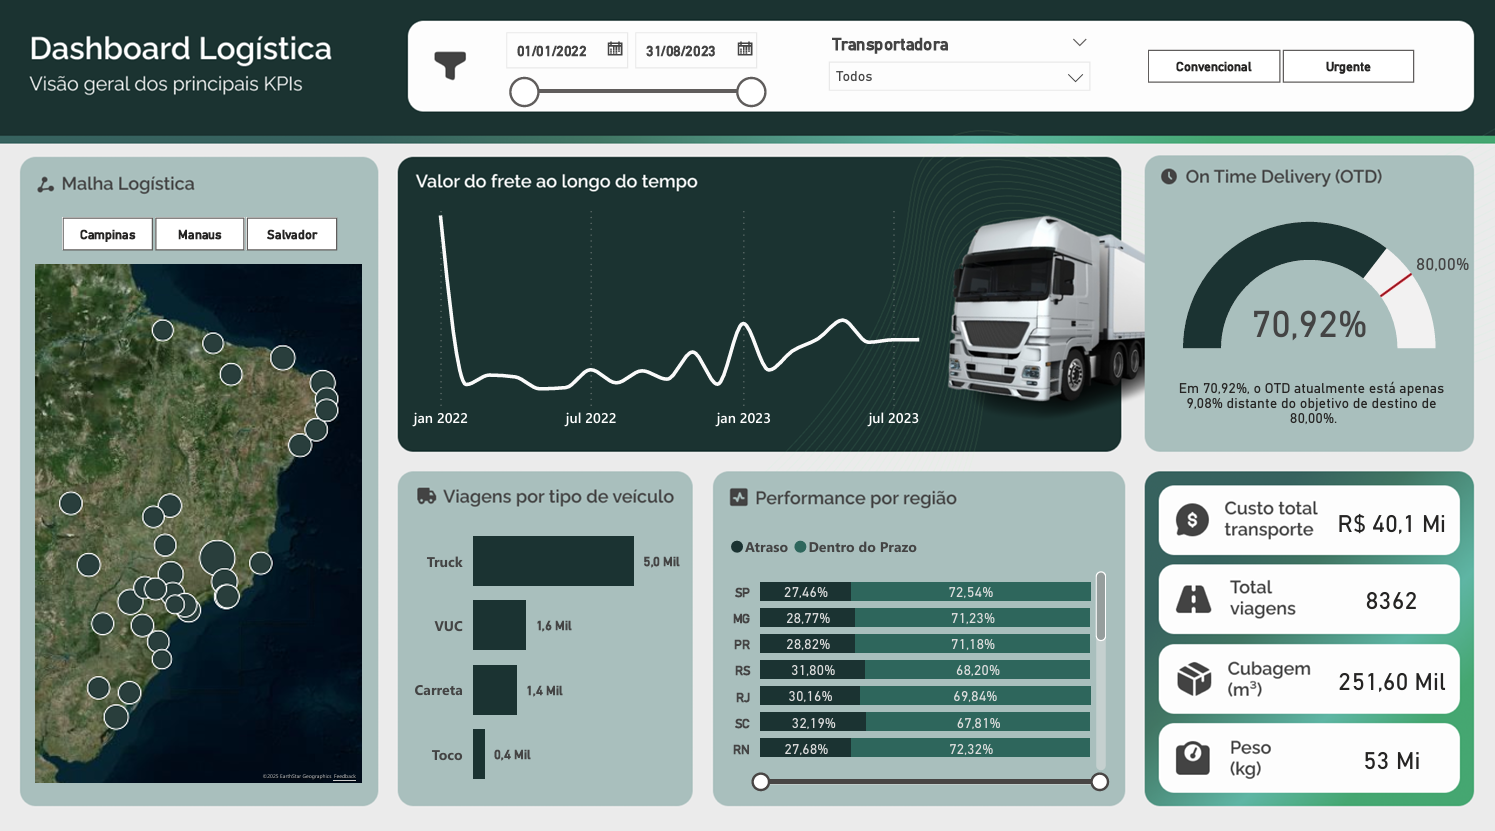

The dashboard page shown, as its layout file describes it:
{"tool":"powerbi","page":{"name":"Página 1","canvas":[1280,720],"ordinal":0},"visuals":[{"type":"lineChart","fields":{"Category":["Histórico Transporte.Data de Coleta.Variation.Hierarquia de datas.Ano","Histórico Transporte.Data de Coleta.Variation.Hierarquia de datas.Trimestre","Histórico Transporte.Data de Coleta.Variation.Hierarquia de datas.Mês","Histórico Transporte.Data de Coleta.Variation.Hierarquia de datas.Dia"],"Y":["Sum(Valor do Frete. Valor do Frete )"]},"box":[348.2,165.3,464,211.1],"z":0},{"type":"barChart","fields":{"Category":["Valor do Frete.Tipo de Veículo"],"Y":["CountNonNull(Histórico Transporte.Load)"]},"box":[348.2,423.6,240,270],"z":1000},{"type":"card","fields":{"Values":["Sum(Valor do Frete. Valor do Frete )"]},"box":[1115.7,424.3,137.1,46.4],"z":2000},{"type":"card","fields":{"Values":["CountNonNull(Valor do Frete.Load)"]},"box":[1131.2,490.2,112.8,46.7],"z":3000},{"type":"card","fields":{"Values":["Sum(Histórico Transporte.Cubagem (m³))"]},"box":[1131.4,558.6,113.5,47],"z":4000},{"type":"card","fields":{"Values":["Sum(Histórico Transporte.Peso Bruto (kg))"]},"box":[1123.3,624.9,128.5,48.7],"z":5000},{"type":"gauge","fields":{"TargetValue":["Histórico Transporte.Meta OTD"],"Y":["Histórico Transporte.% OTD"]},"box":[1007.3,161.4,259.8,185.3],"z":6000},{"type":"card","fields":{"Values":["Histórico Transporte.Texto Narrativa Corrigida"]},"box":[982.7,302.7,276.4,88.2],"z":7000},{"type":"slicer","fields":{"Values":["Histórico Transporte.Origem-Cidade"]},"box":[29.1,180,283.6,41.8],"z":8000},{"type":"slicer","fields":{"Values":["Histórico Transporte.Data de Coleta"]},"box":[420,19.1,242.7,78.2],"z":9000},{"type":"slicer","fields":{"Values":["Histórico Transporte.Transportadora"]},"box":[693.4,26.2,242.9,94.7],"z":10000},{"type":"slicer","fields":{"Values":["Valor do Frete.Tipo Transporte"]},"box":[953.6,37.3,277.3,41.8],"z":11000},{"type":"hundredPercentStackedBarChart","fields":{"Category":["Histórico Transporte.Destino-UF"],"Series":["Histórico Transporte.Status Transporte"],"Y":["Histórico Transporte.Total Viagens"]},"box":[619.1,448.2,330,230.9],"z":12000},{"type":"esriVisual","fields":{"Location":["Histórico Transporte.Destino-Cidade"]},"box":[21.2,220.7,300.3,461.6],"z":13000}]}

Visuals, with their boxes in screenshot pixels (x1, y1, x2, y2), scaled from the page's 1280x720 canvas onto the 1495x831 screenshot:
lineChart - Histórico Transporte.Data de Coleta.Variation.Hierarquia de datas.Ano x Histórico Transporte.Data de Coleta.Variation.Hierarquia de datas.Trimestre: select_region(407, 191, 949, 434)
barChart - Valor do Frete.Tipo de Veículo x CountNonNull(Histórico Transporte.Load): select_region(407, 489, 687, 801)
card - Sum(Valor do Frete. Valor do Frete ): select_region(1303, 490, 1463, 543)
card - CountNonNull(Valor do Frete.Load): select_region(1321, 566, 1453, 620)
card - Sum(Histórico Transporte.Cubagem (m³)): select_region(1321, 645, 1454, 699)
card - Sum(Histórico Transporte.Peso Bruto (kg)): select_region(1312, 721, 1462, 777)
gauge - Histórico Transporte.Meta OTD x Histórico Transporte.% OTD: select_region(1176, 186, 1480, 400)
card - Histórico Transporte.Texto Narrativa Corrigida: select_region(1148, 349, 1471, 451)
slicer - Histórico Transporte.Origem-Cidade: select_region(34, 208, 365, 256)
slicer - Histórico Transporte.Data de Coleta: select_region(491, 22, 774, 112)
slicer - Histórico Transporte.Transportadora: select_region(810, 30, 1094, 140)
slicer - Valor do Frete.Tipo Transporte: select_region(1114, 43, 1438, 91)
hundredPercentStackedBarChart - Histórico Transporte.Destino-UF x Histórico Transporte.Status Transporte: select_region(723, 517, 1109, 784)
esriVisual - Histórico Transporte.Destino-Cidade: select_region(25, 255, 376, 787)
